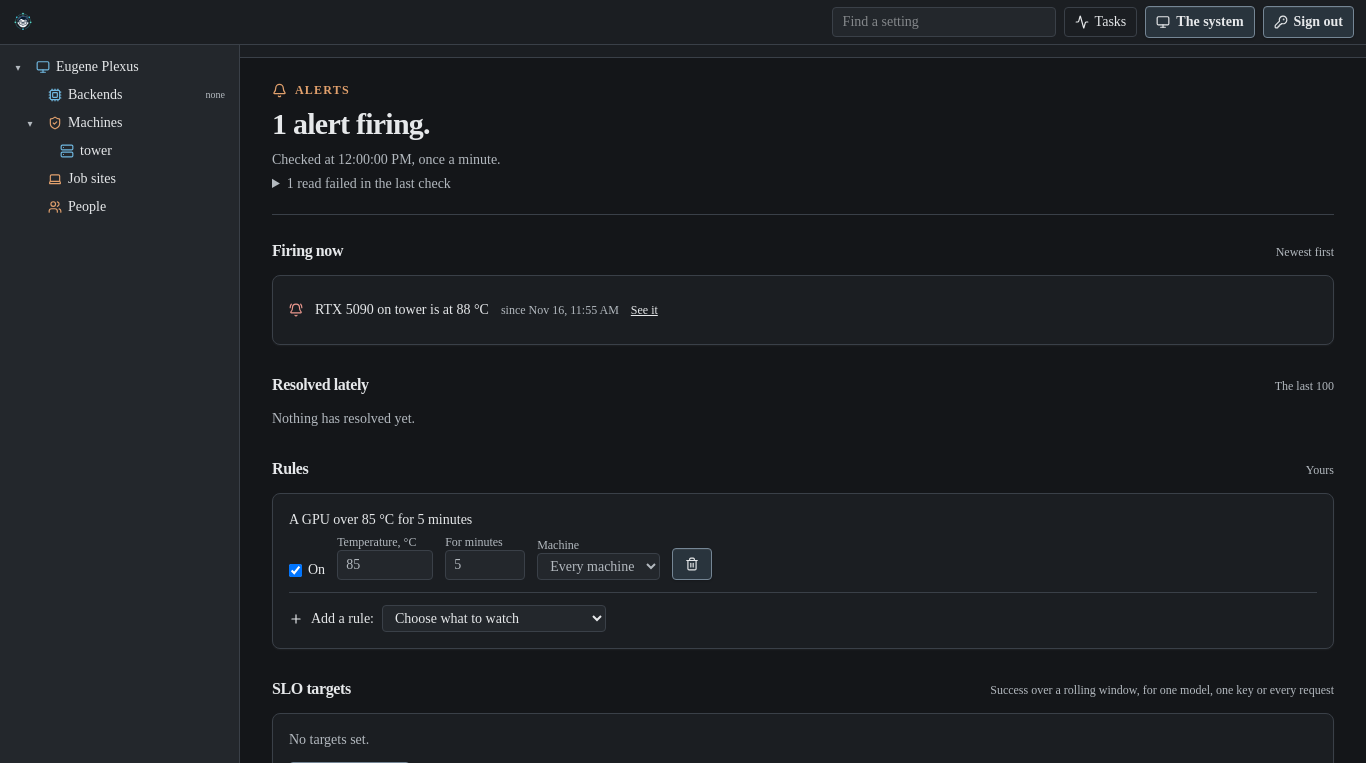
Test: the Alerts page › saves the rules it shows, and shows what the root answered
Replace the text in the number field labelled "Temperature, °C" with "80" at (385, 565), box [337,550,433,580]
(page scrolled)
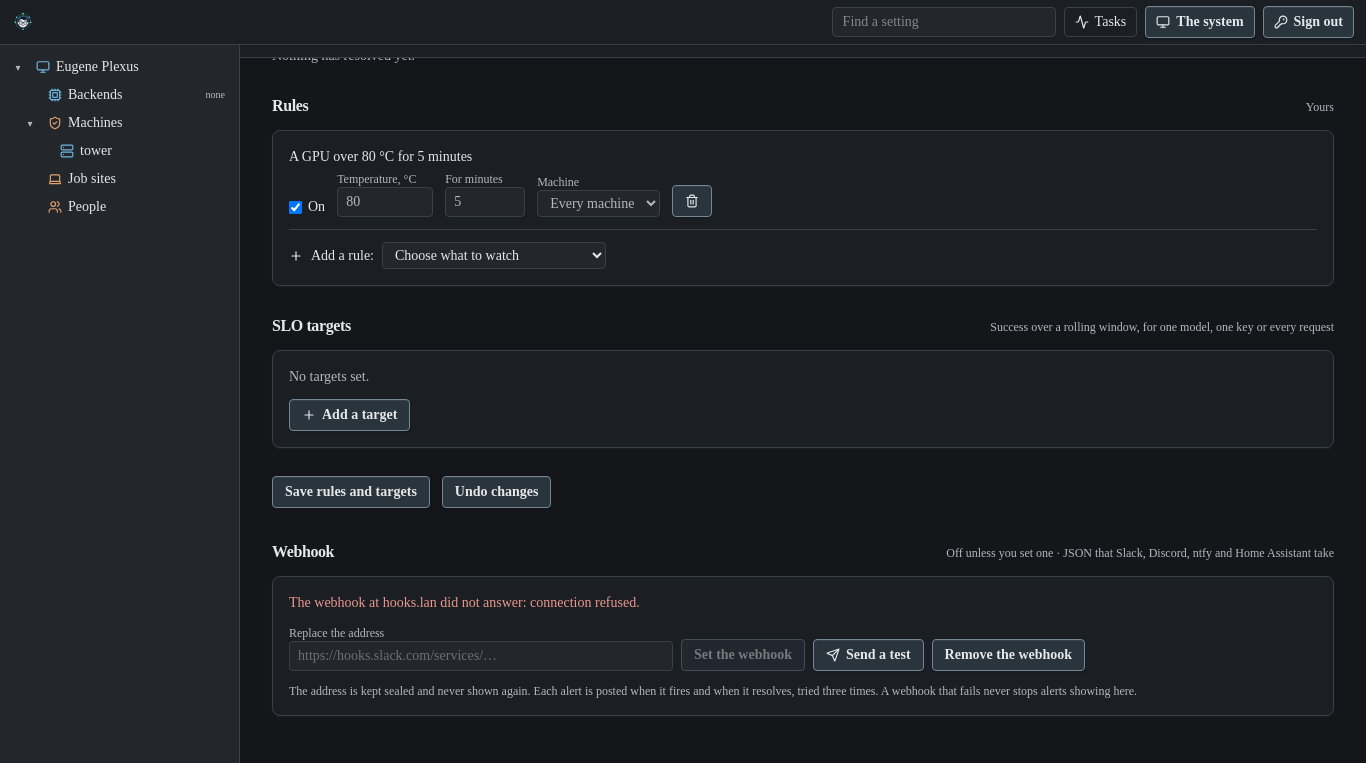
Click the button "Save rules and targets" at (351, 492), box [272,476,430,508]
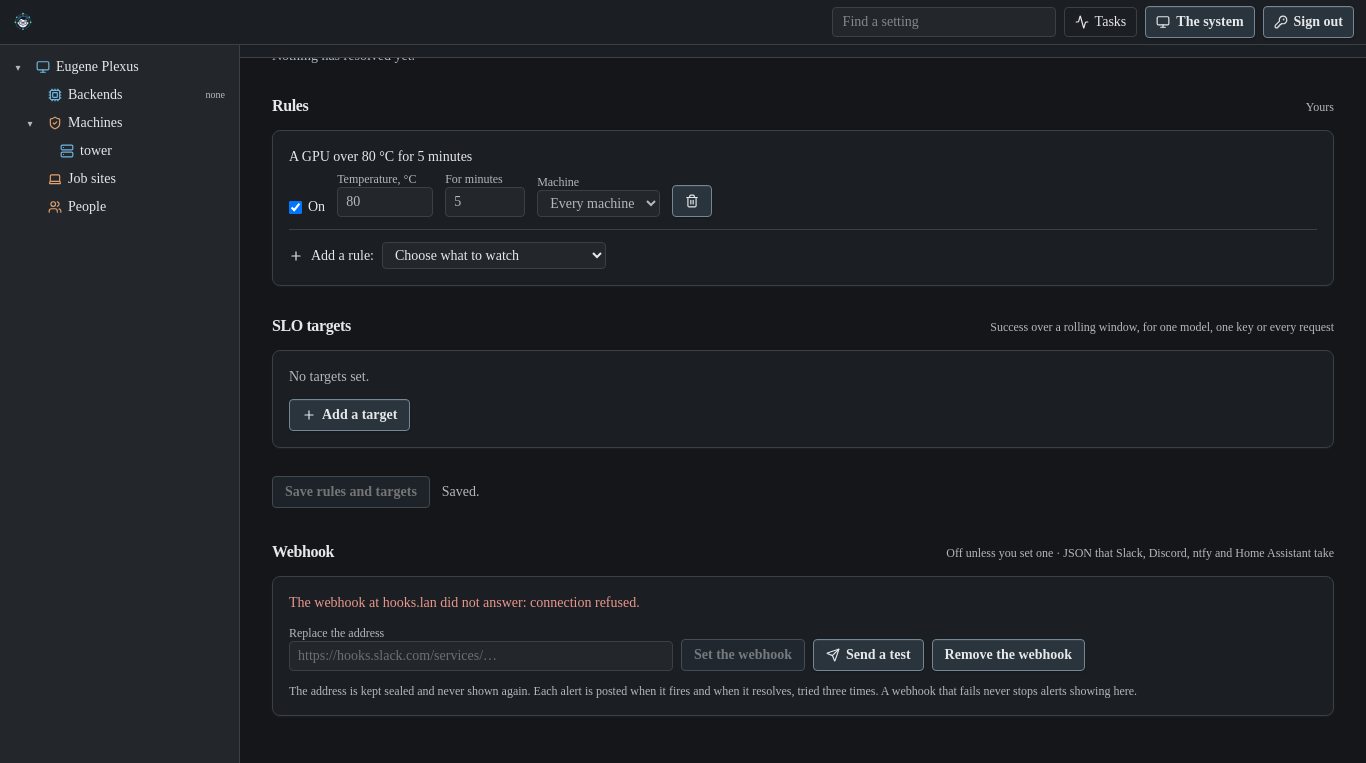
Result: the text "Saved." is shown at [442,482,480,502]
